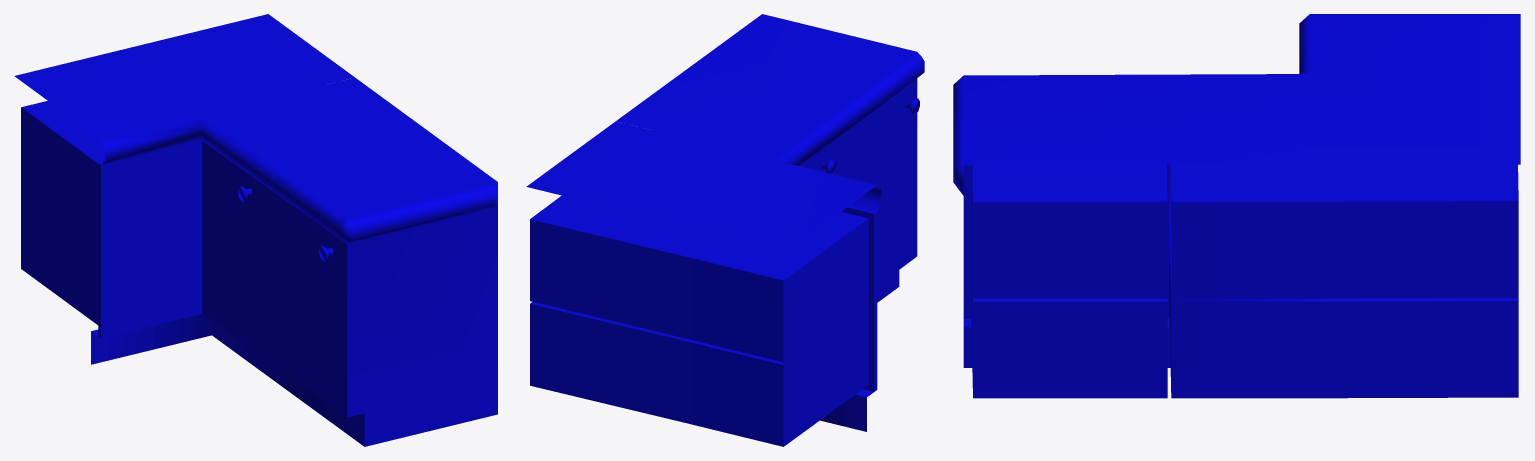
Rendered from Object_CounterCnrRight.fbx.
3 renders of one model, left to right at view 1: azimuth 30°, elevation 25°; view 2: azimuth 150°, elevation 25°; view 3: azimuth 270°, elevation 25°, orthographic. The views are drawn at different scales.
Visible parts, largest first — view 1: CounterCnrRight_Body_LOW, CounterCnrRight_BiFoldDoor2_LOW, CounterCnrRight_RightDoor_LOW, CounterCnrRight_BiFoldDoor1_LOW; view 2: CounterCnrRight_Body_LOW, CounterCnrRight_RightDoor_LOW, CounterCnrRight_BiFoldDoor2_LOW, CounterCnrRight_BiFoldDoor1_LOW; view 3: CounterCnrRight_Body_LOW, CounterCnrRight_RightDoor_LOW.
Part boxes in pixels (<box>): CounterCnrRight_Body_LOW: <box>14,14,497,446</box>; CounterCnrRight_BiFoldDoor2_LOW: <box>98,141,202,338</box>; CounterCnrRight_RightDoor_LOW: <box>261,183,350,417</box>; CounterCnrRight_BiFoldDoor1_LOW: <box>202,141,261,355</box>; CounterCnrRight_Body_LOW: <box>526,14,924,446</box>; CounterCnrRight_RightDoor_LOW: <box>832,78,919,285</box>; CounterCnrRight_BiFoldDoor2_LOW: <box>841,205,877,391</box>; CounterCnrRight_BiFoldDoor1_LOW: <box>800,142,836,174</box>; CounterCnrRight_Body_LOW: <box>953,14,1520,398</box>; CounterCnrRight_RightDoor_LOW: <box>963,164,1168,318</box>.
Bounding box in the file's own units: 1.03 × 0.9 × 1.64.
